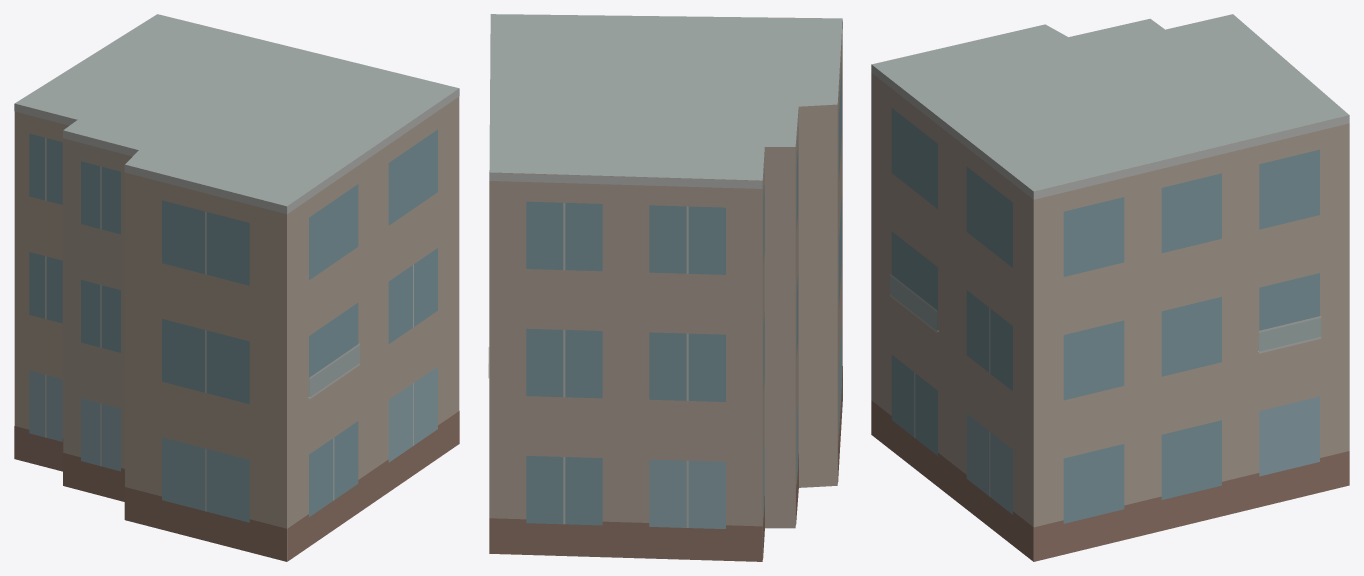
Rendered from survey-upis-32710958.glb.
The picture shows the model from 3 angles, left to right: view 1: azimuth 30°, elevation 25°; view 2: azimuth 150°, elevation 25°; view 3: azimuth 270°, elevation 25°; orthographic projection. The views are drawn at different scales.
Visible parts, largest first — view 1: survey-upis-32710958.tmp; view 2: survey-upis-32710958.tmp; view 3: survey-upis-32710958.tmp.
Boxes of the visible parts, left/top/right/bottom form: survey-upis-32710958.tmp: left=14, top=14, right=459, bottom=561; survey-upis-32710958.tmp: left=488, top=14, right=842, bottom=561; survey-upis-32710958.tmp: left=871, top=14, right=1349, bottom=561.
Bounding box in the file's own units: 11.32 × 11 × 12.88.
